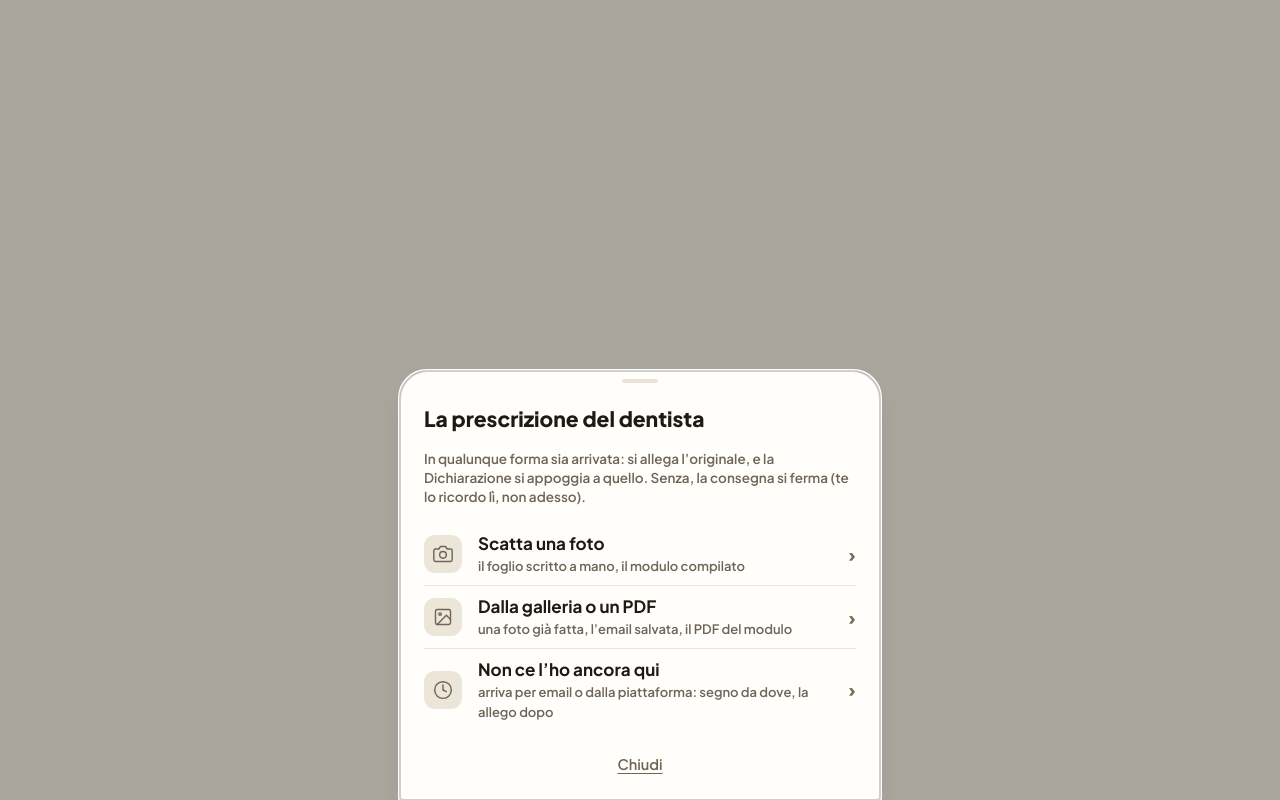
T9 — quando qualcosa non riesce › risposta non-JSON (un 502 di un proxy) → frase generica, mai un’eccezione che risale
Click the text "Non ce l’ho ancora qui" at (569, 669), box [478,658,660,680]
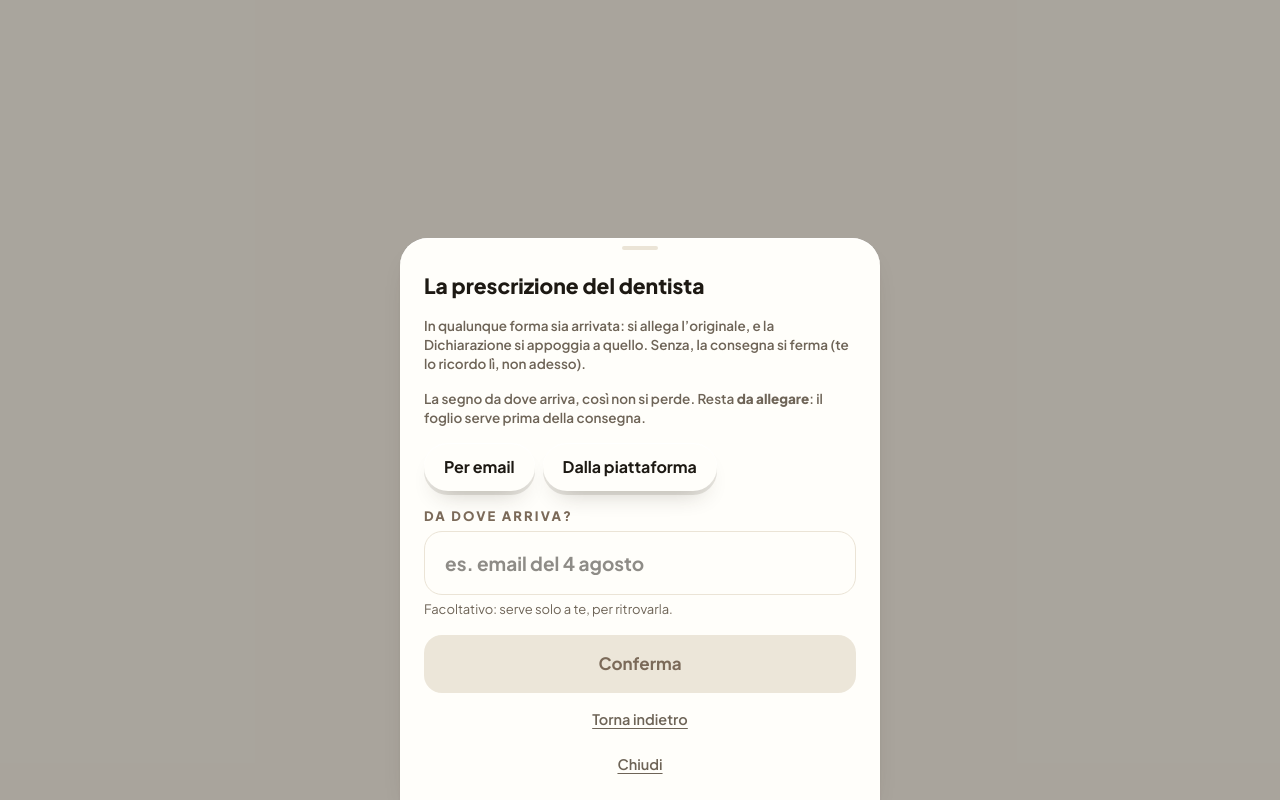
Click the button "Per email" at (479, 468), box [424,444,535,492]
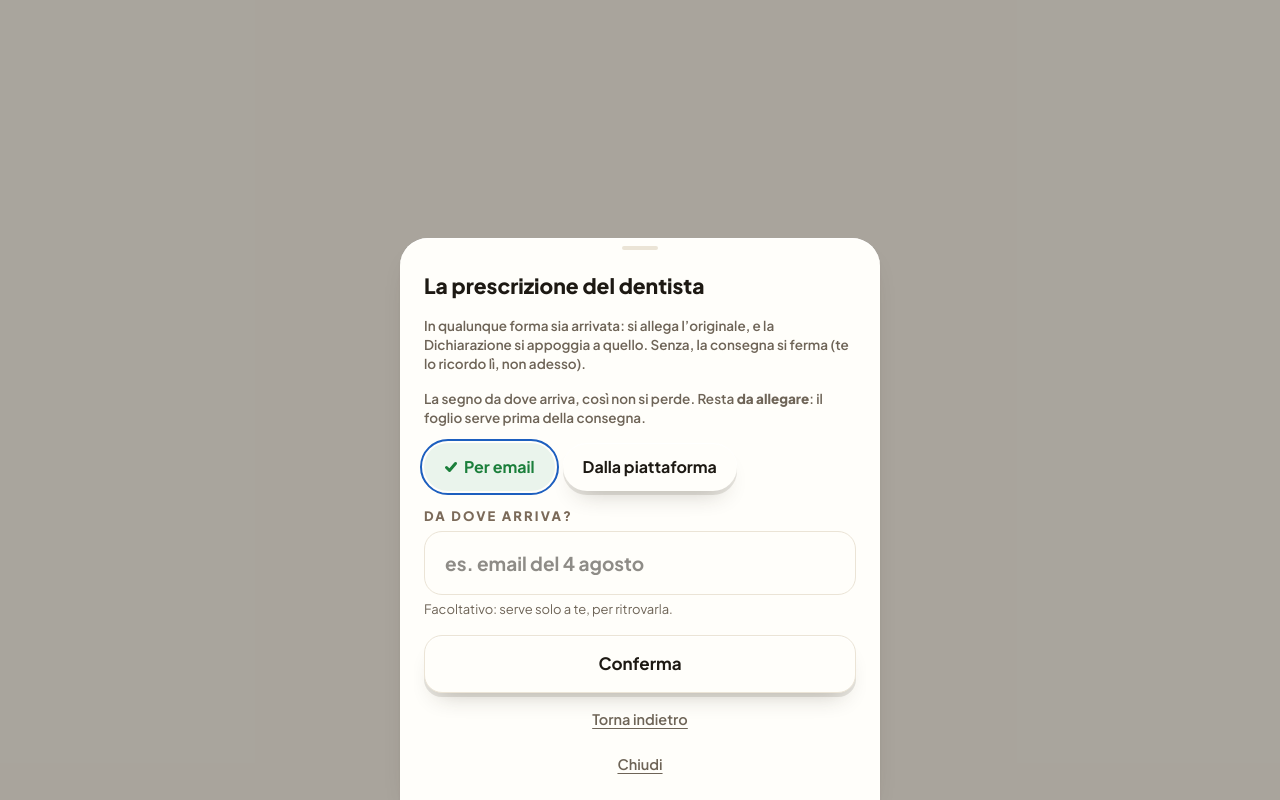
Click the button "Conferma" at (640, 664), box [424,634,856,692]
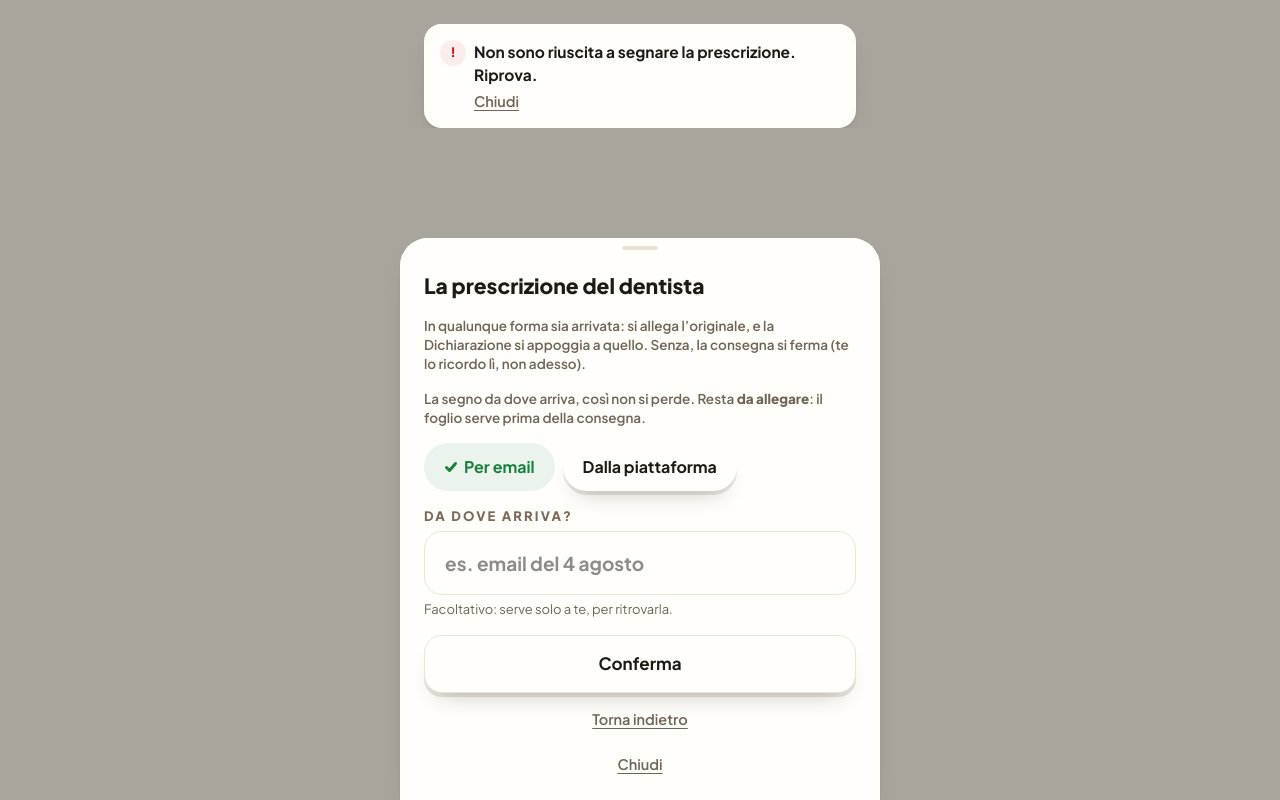
Result: the message "! Non sono riuscita a segnare la prescrizione. Riprova. Chiudi" is shown at [424,24,856,128]
Result: the text "Non sono riuscita a segnare la prescrizione. Riprova." is shown at [474,40,840,86]
